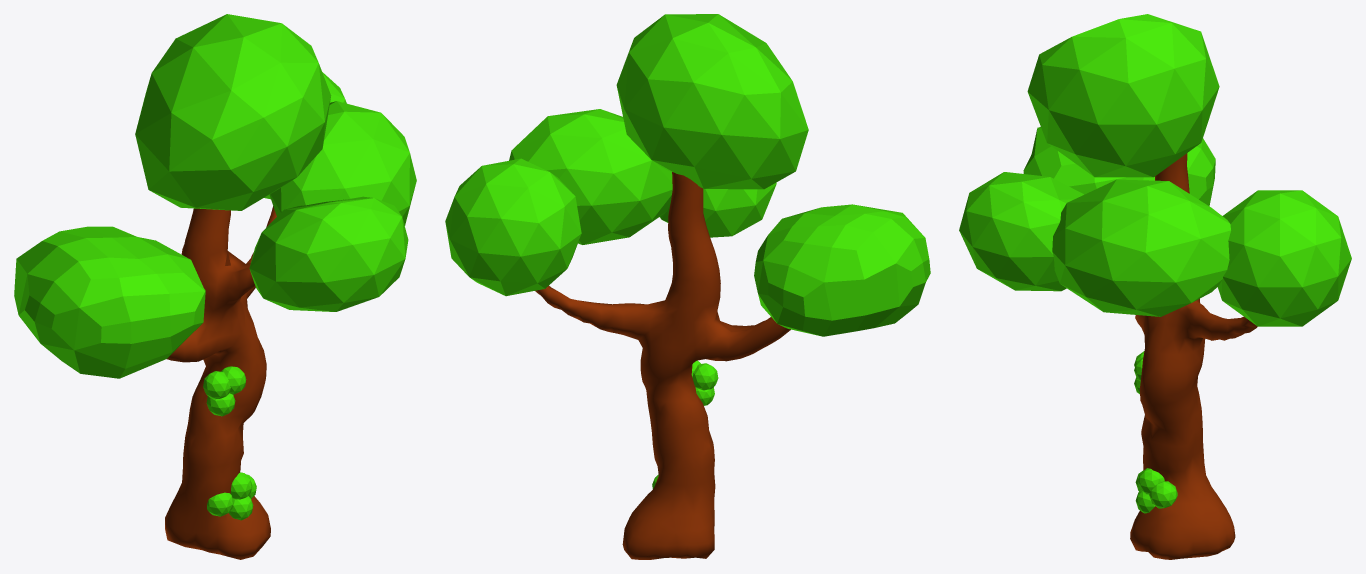
File: Tree2.fbx
3 views of the same model, side by side, from view 1: azimuth 30°, elevation 25°; view 2: azimuth 150°, elevation 25°; view 3: azimuth 270°, elevation 25° (orthographic). The views are drawn at different scales.
Visible parts, largest first — view 1: Icosphere.001, leaf, Tree_Body, leaf2, leaf3, tiny_leaf7, tiny_leaf3; view 2: Tree_Body, Icosphere.001, leaf, leaf4, leaf3, leaf2; view 3: Icosphere.001, leaf3, Tree_Body, leaf4, leaf2, leaf, tiny_leaf1.
Boxes of the visible parts, left/top/right/bottom form: Icosphere.001: left=135, top=14, right=331, bottom=210; leaf: left=14, top=226, right=205, bottom=378; Tree_Body: left=165, top=206, right=276, bottom=559; leaf2: left=249, top=196, right=408, bottom=311; leaf3: left=269, top=101, right=416, bottom=225; tiny_leaf7: left=203, top=371, right=230, bottom=398; tiny_leaf3: left=207, top=492, right=233, bottom=516; Tree_Body: left=535, top=172, right=790, bottom=559; Icosphere.001: left=616, top=14, right=808, bottom=189; leaf: left=754, top=204, right=930, bottom=336; leaf4: left=445, top=158, right=581, bottom=296; leaf3: left=509, top=109, right=672, bottom=244; leaf2: left=660, top=182, right=776, bottom=237; Icosphere.001: left=1027, top=14, right=1219, bottom=177; leaf3: left=1052, top=179, right=1230, bottom=316; Tree_Body: left=1130, top=153, right=1257, bottom=559; leaf4: left=1217, top=190, right=1351, bottom=326; leaf2: left=959, top=172, right=1083, bottom=291; leaf: left=1023, top=127, right=1215, bottom=206; tiny_leaf1: left=1149, top=481, right=1177, bottom=508.
Size of the model in its own units: 1478 by 1876 by 1276.
